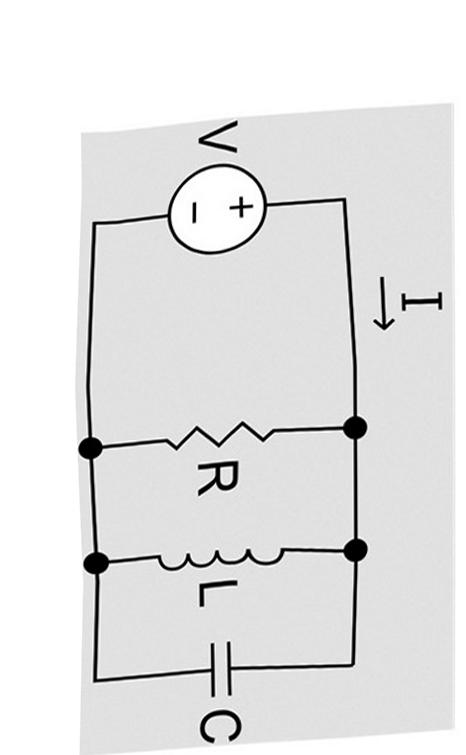Battery: (138, 155, 289, 274)
